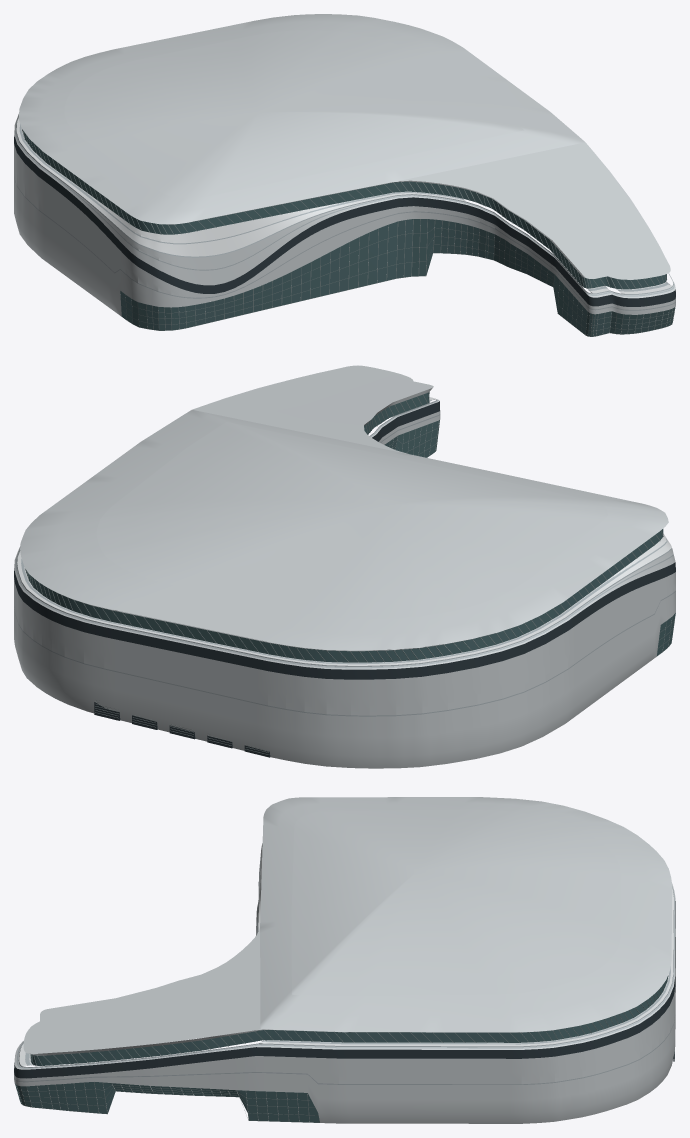
File: rogers-place-near.glb
3 views of the same model, one above another, from view 1: azimuth 30°, elevation 25°; view 2: azimuth 150°, elevation 25°; view 3: azimuth 270°, elevation 25° (orthographic). The views are drawn at different scales.
Visible parts, largest first — view 1: rogers-place-0-roof, rogers-place-0-silver, rogers-place-0-glass, rogers-place-0-shadow, rogers-place-0-frame, rogers-place-0-highlight, rogers-place-0-seam; view 2: rogers-place-0-silver, rogers-place-0-roof, rogers-place-0-glass, rogers-place-0-shadow, rogers-place-0-seam, rogers-place-0-highlight, rogers-place-0-frame; view 3: rogers-place-0-roof, rogers-place-0-silver, rogers-place-0-glass, rogers-place-0-shadow, rogers-place-0-seam, rogers-place-0-frame, rogers-place-0-highlight.
Boxes of the visible parts, x1,y1,x2,y2 form: rogers-place-0-roof: [64, 30, 670, 279]; rogers-place-0-silver: [14, 14, 675, 316]; rogers-place-0-glass: [22, 130, 675, 336]; rogers-place-0-shadow: [14, 135, 675, 306]; rogers-place-0-frame: [22, 129, 675, 336]; rogers-place-0-highlight: [16, 118, 671, 293]; rogers-place-0-seam: [14, 116, 675, 310]; rogers-place-0-silver: [14, 388, 675, 768]; rogers-place-0-roof: [96, 365, 607, 619]; rogers-place-0-glass: [25, 392, 675, 662]; rogers-place-0-shadow: [14, 401, 675, 757]; rogers-place-0-seam: [14, 399, 675, 716]; rogers-place-0-highlight: [17, 397, 671, 665]; rogers-place-0-frame: [25, 392, 675, 754]; rogers-place-0-roof: [23, 809, 621, 1053]; rogers-place-0-silver: [14, 797, 675, 1123]; rogers-place-0-glass: [14, 976, 667, 1122]; rogers-place-0-shadow: [14, 882, 675, 1078]; rogers-place-0-seam: [14, 850, 675, 1084]; rogers-place-0-frame: [16, 975, 674, 1122]; rogers-place-0-highlight: [19, 843, 673, 1065].
Bounding box in the file's own units: 164 × 43 × 206.
